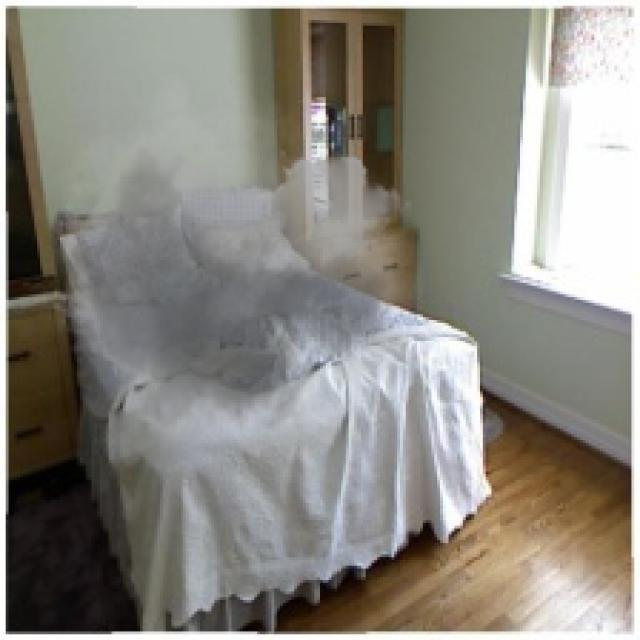smoke: (40, 71, 426, 480)
